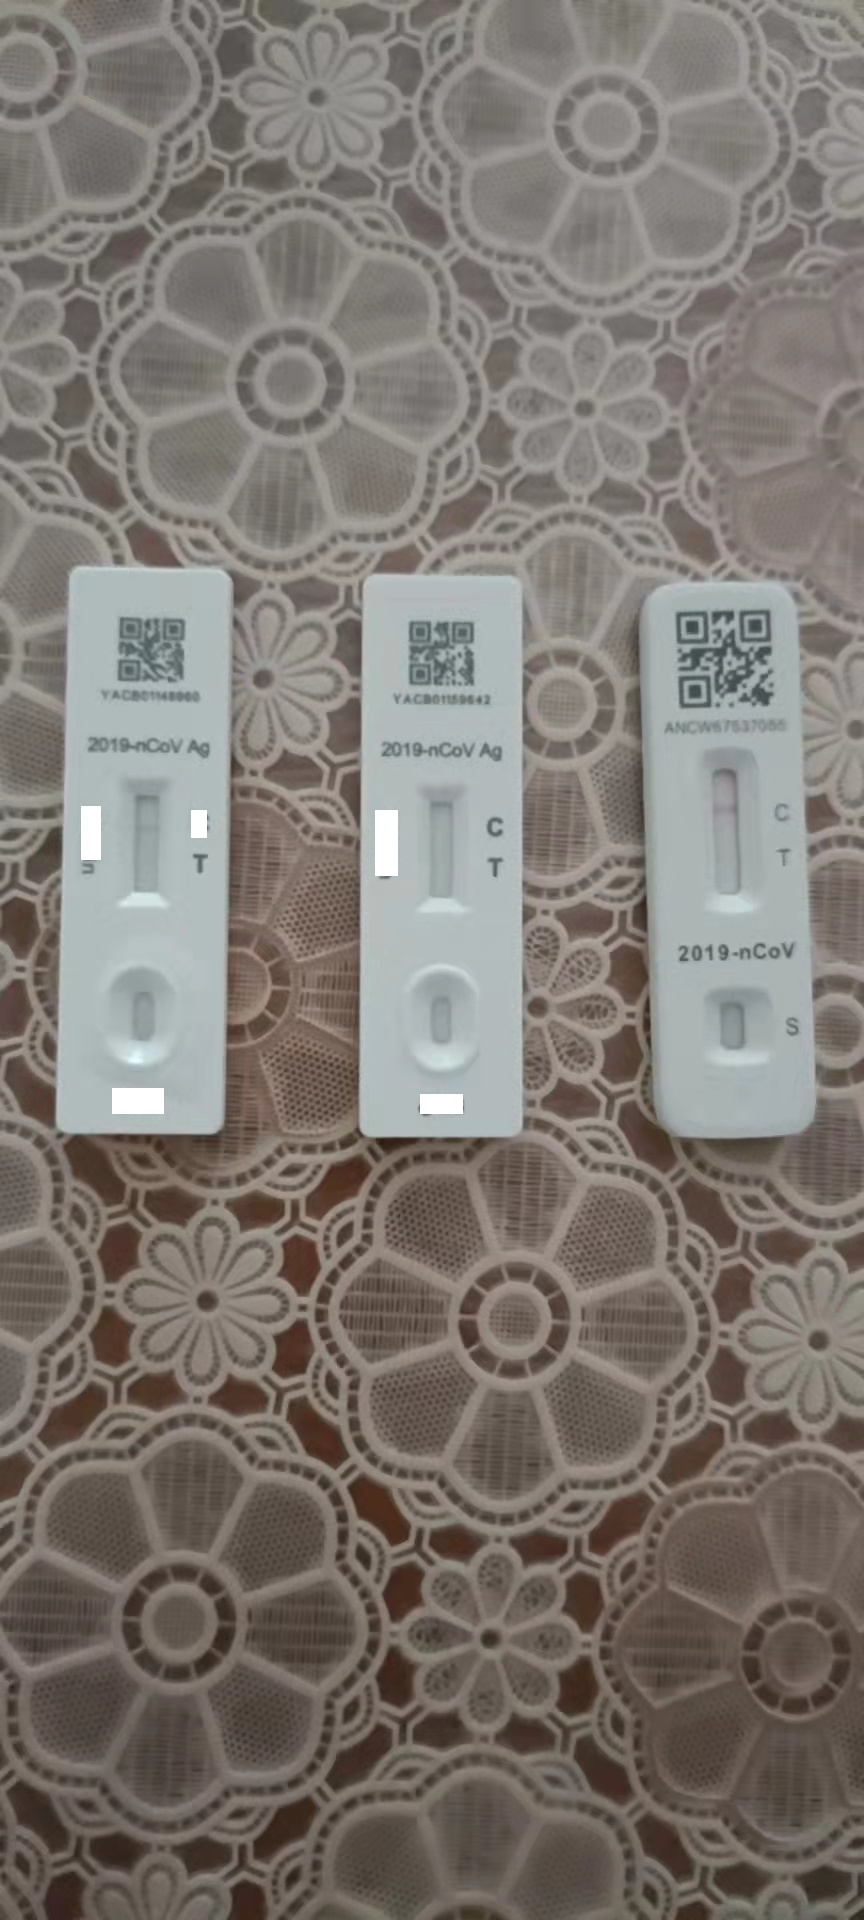negative: (702, 749, 756, 907), (419, 784, 467, 912), (124, 775, 166, 909)
